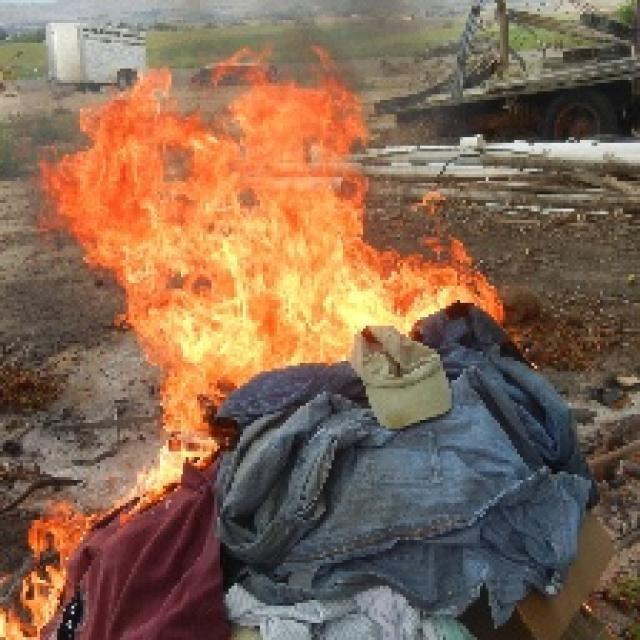fire: (36, 84, 364, 223), (75, 230, 489, 302), (132, 308, 246, 444), (0, 503, 79, 640)
